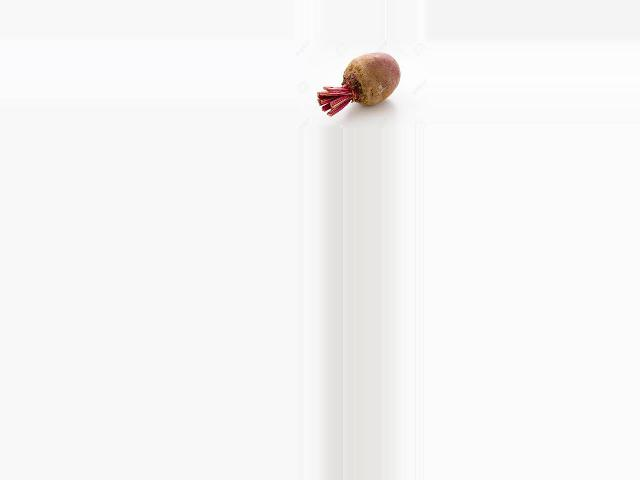beet: (317, 52, 401, 117)
